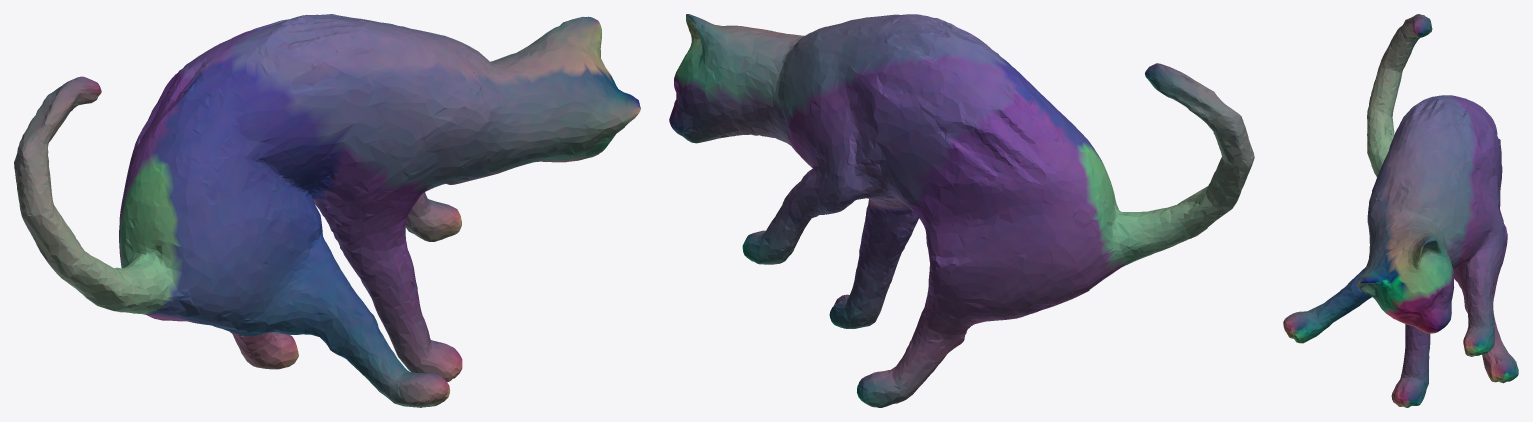
Rendered from cat-16.off.obj.
3 views of the same model, side by side, from view 1: azimuth 30°, elevation 25°; view 2: azimuth 150°, elevation 25°; view 3: azimuth 270°, elevation 25° (orthographic). The views are drawn at different scales.
Bounding box in the file's own units: 1.62 × 0.9928 × 0.7709.
